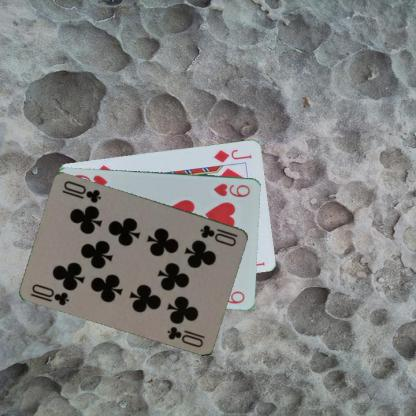10c: (28, 281, 71, 307), (198, 222, 239, 248)
9h: (211, 181, 251, 198)
Jd: (211, 146, 253, 164)
